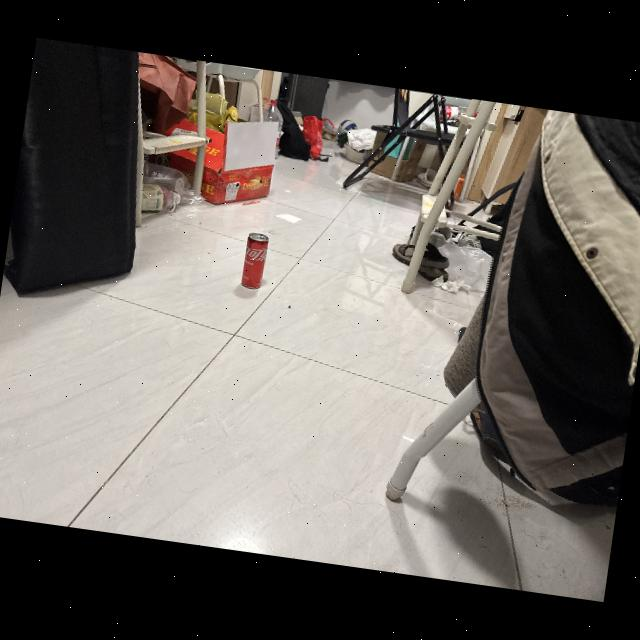Cola: (233, 228, 276, 296)
